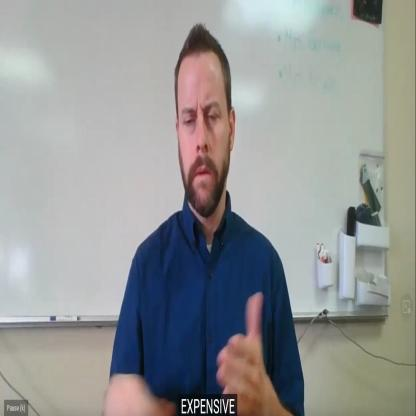Expensive: (111, 297, 273, 416)
